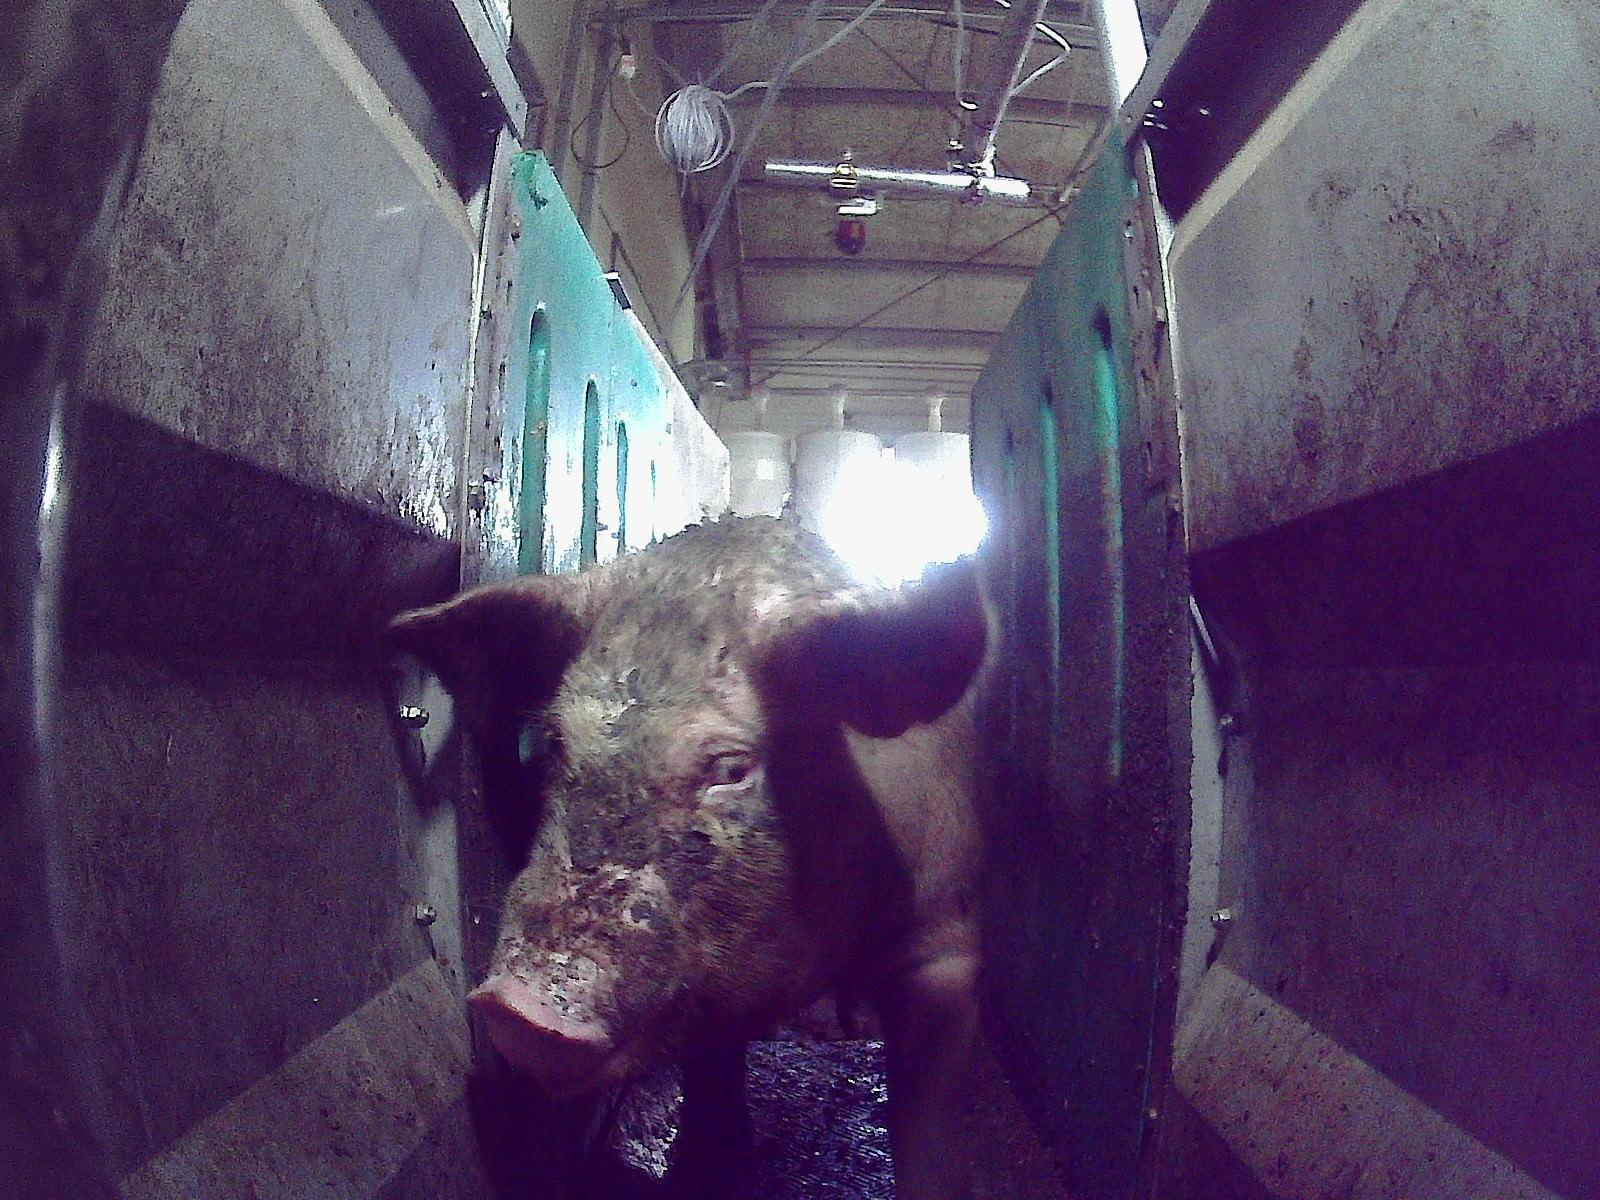Face: (465, 534, 842, 1106)
